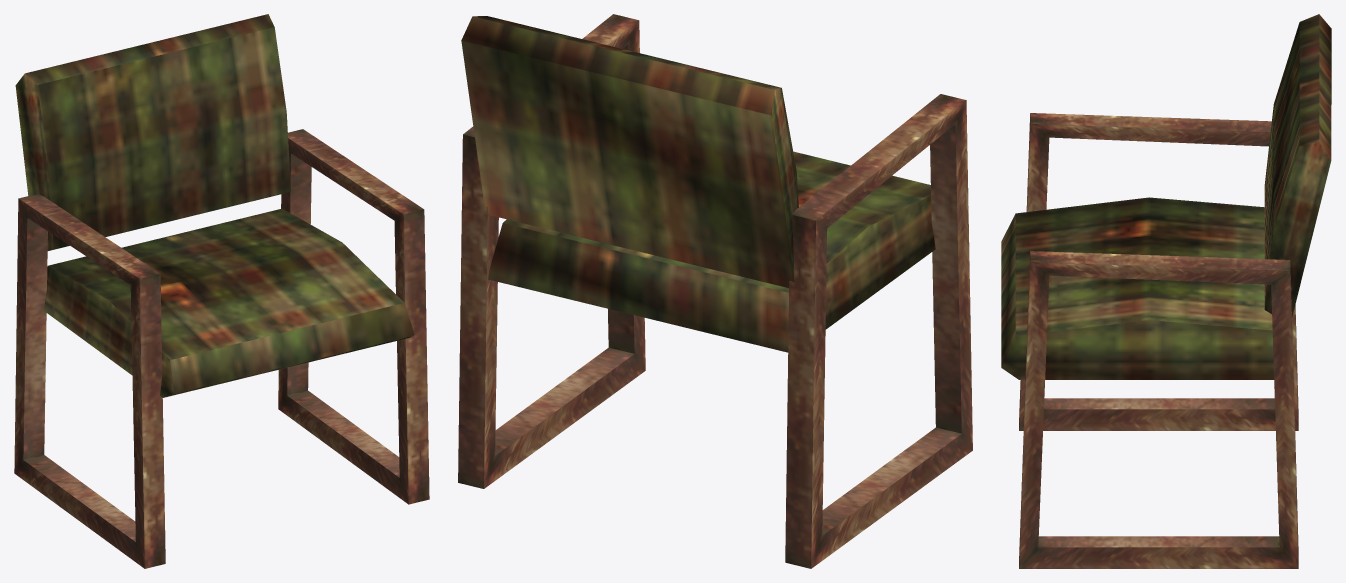
Rendered from chr_med_low_plaid.fbx.
The picture shows the model from 3 angles, left to right: view 1: azimuth 30°, elevation 25°; view 2: azimuth 150°, elevation 25°; view 3: azimuth 270°, elevation 25°; orthographic projection. The views are drawn at different scales.
Parts seen in each view (by area): view 1: mesh_0; view 2: mesh_0; view 3: mesh_0.
Boxes of the visible parts, left/top/right/bottom form: mesh_0: left=14, top=14, right=429, bottom=568; mesh_0: left=458, top=14, right=972, bottom=568; mesh_0: left=1001, top=14, right=1331, bottom=568.
Bounding box in the file's own units: 68.06 × 88.69 × 63.81.
Materials: 1 (1 with a texture image).
